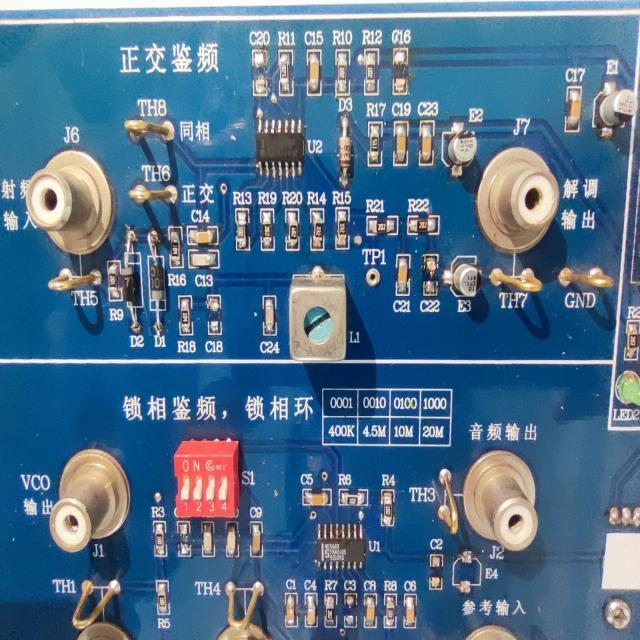Missing component: (450, 548, 500, 595), (248, 29, 274, 100), (390, 26, 413, 99), (419, 250, 442, 317), (204, 292, 226, 356), (427, 535, 445, 593), (342, 574, 359, 631), (175, 519, 192, 558)
